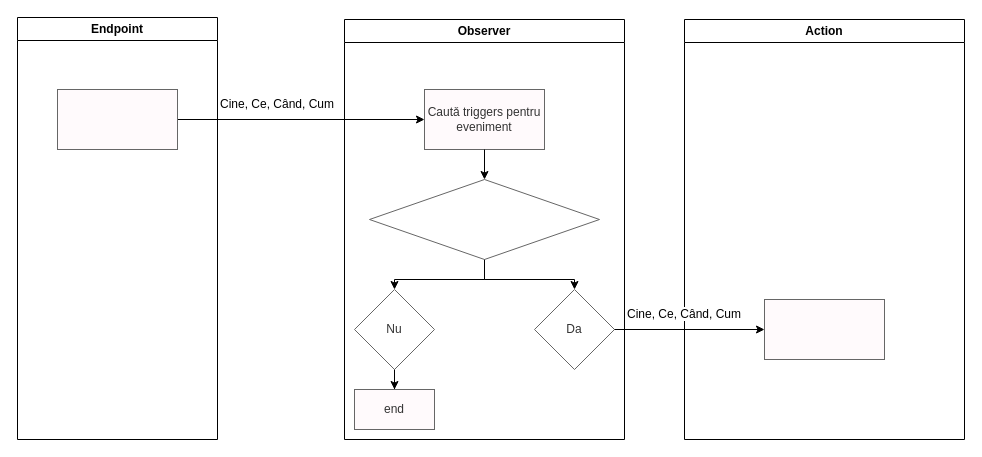
Image size: 982x457. Some labels were removed from this diagram. Each missing label, with the centre of its shape:
"Are loc o acțiune asupra bazei de date" goes at (117,119).
"Executǎ acțiunea" goes at (824,329).
"îndeplineste vreun trigger al evenimentului?" goes at (484,219).
